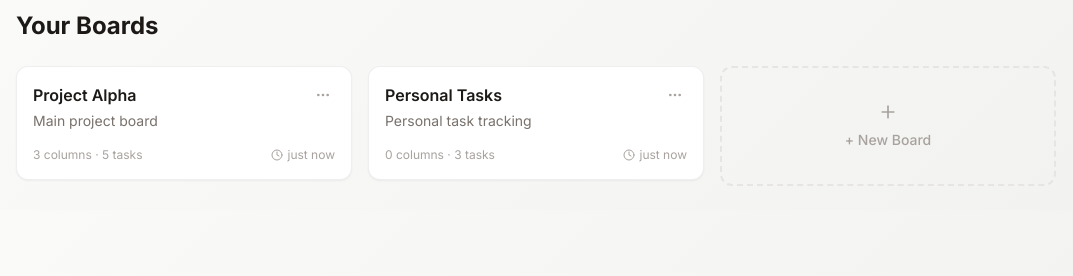
Test: BoardList › inline board creation › opens inline form when ghost card is clicked
The image size is (1073, 276).
Expected: the heading "Project Alpha" is shown, [33,85,136,105]
What coordinates should you click on to do the following:
click the button with test id "ghost-card"
I would click on:
 (888, 140)
Its box is [720,66,1056,186].
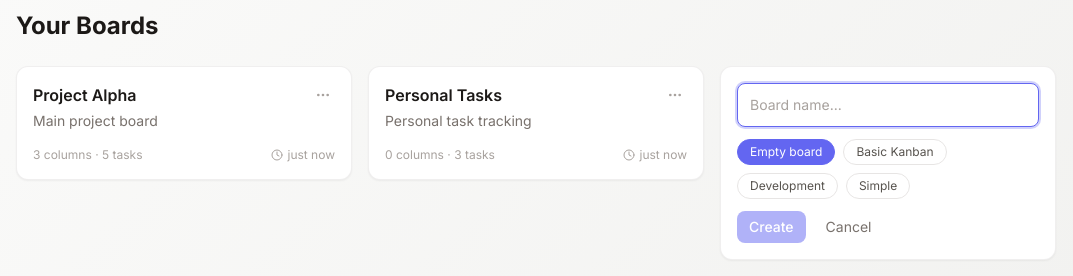
Expected: the element with test id "inline-create-form" is shown, [737,83,1039,243]
Expected: the field with placeholder "Board name..." is shown, [737,83,1039,127]
